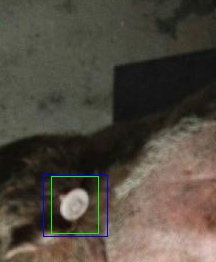text: (51, 176, 98, 233)
